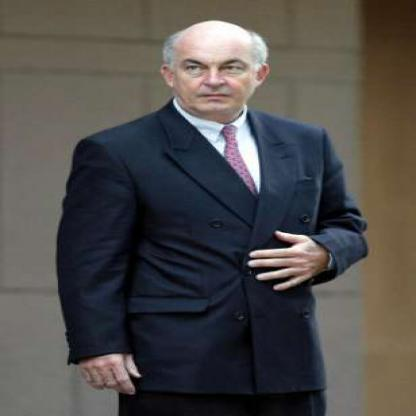face: (173, 23, 261, 117)
